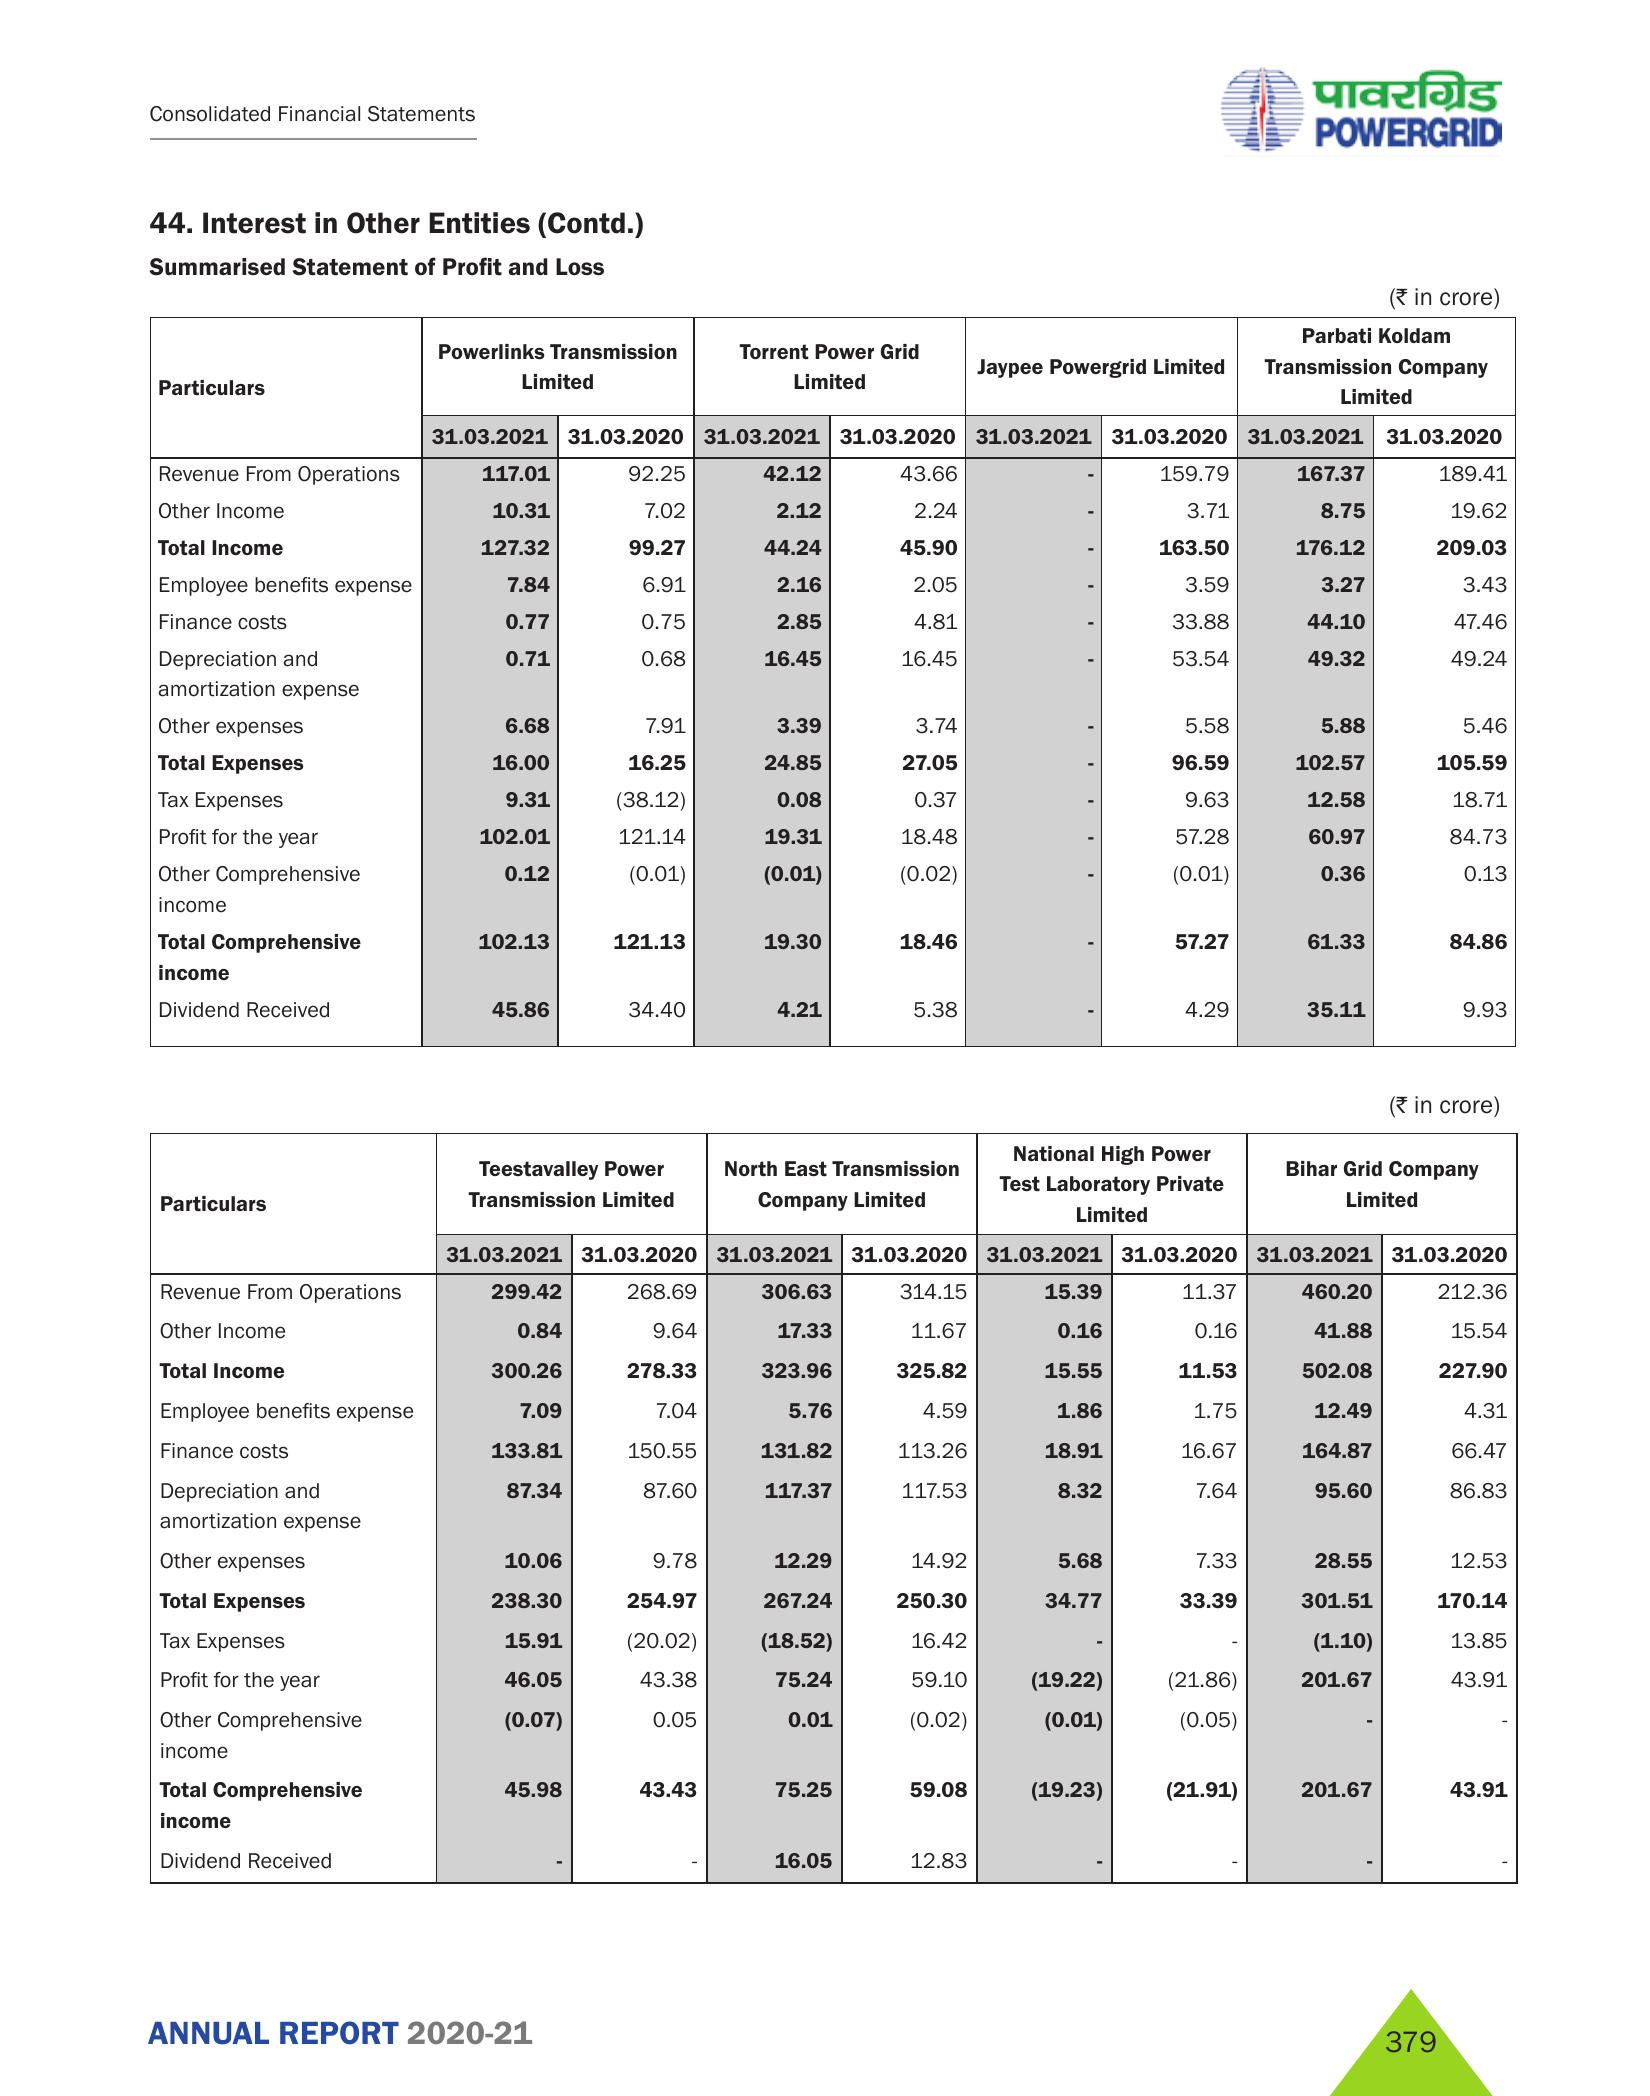Footer: (0, 1956, 1650, 2096)
Header: (0, 0, 1650, 163)
Table: (146, 1128, 1516, 1883), (134, 315, 1521, 1046)
